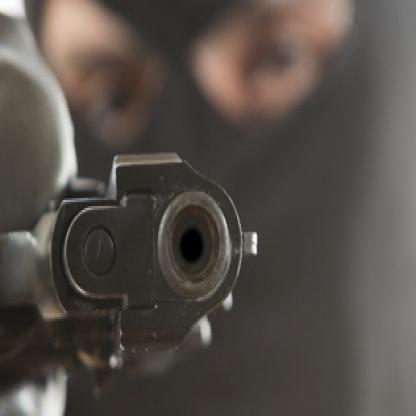gun: (0, 144, 302, 405)
